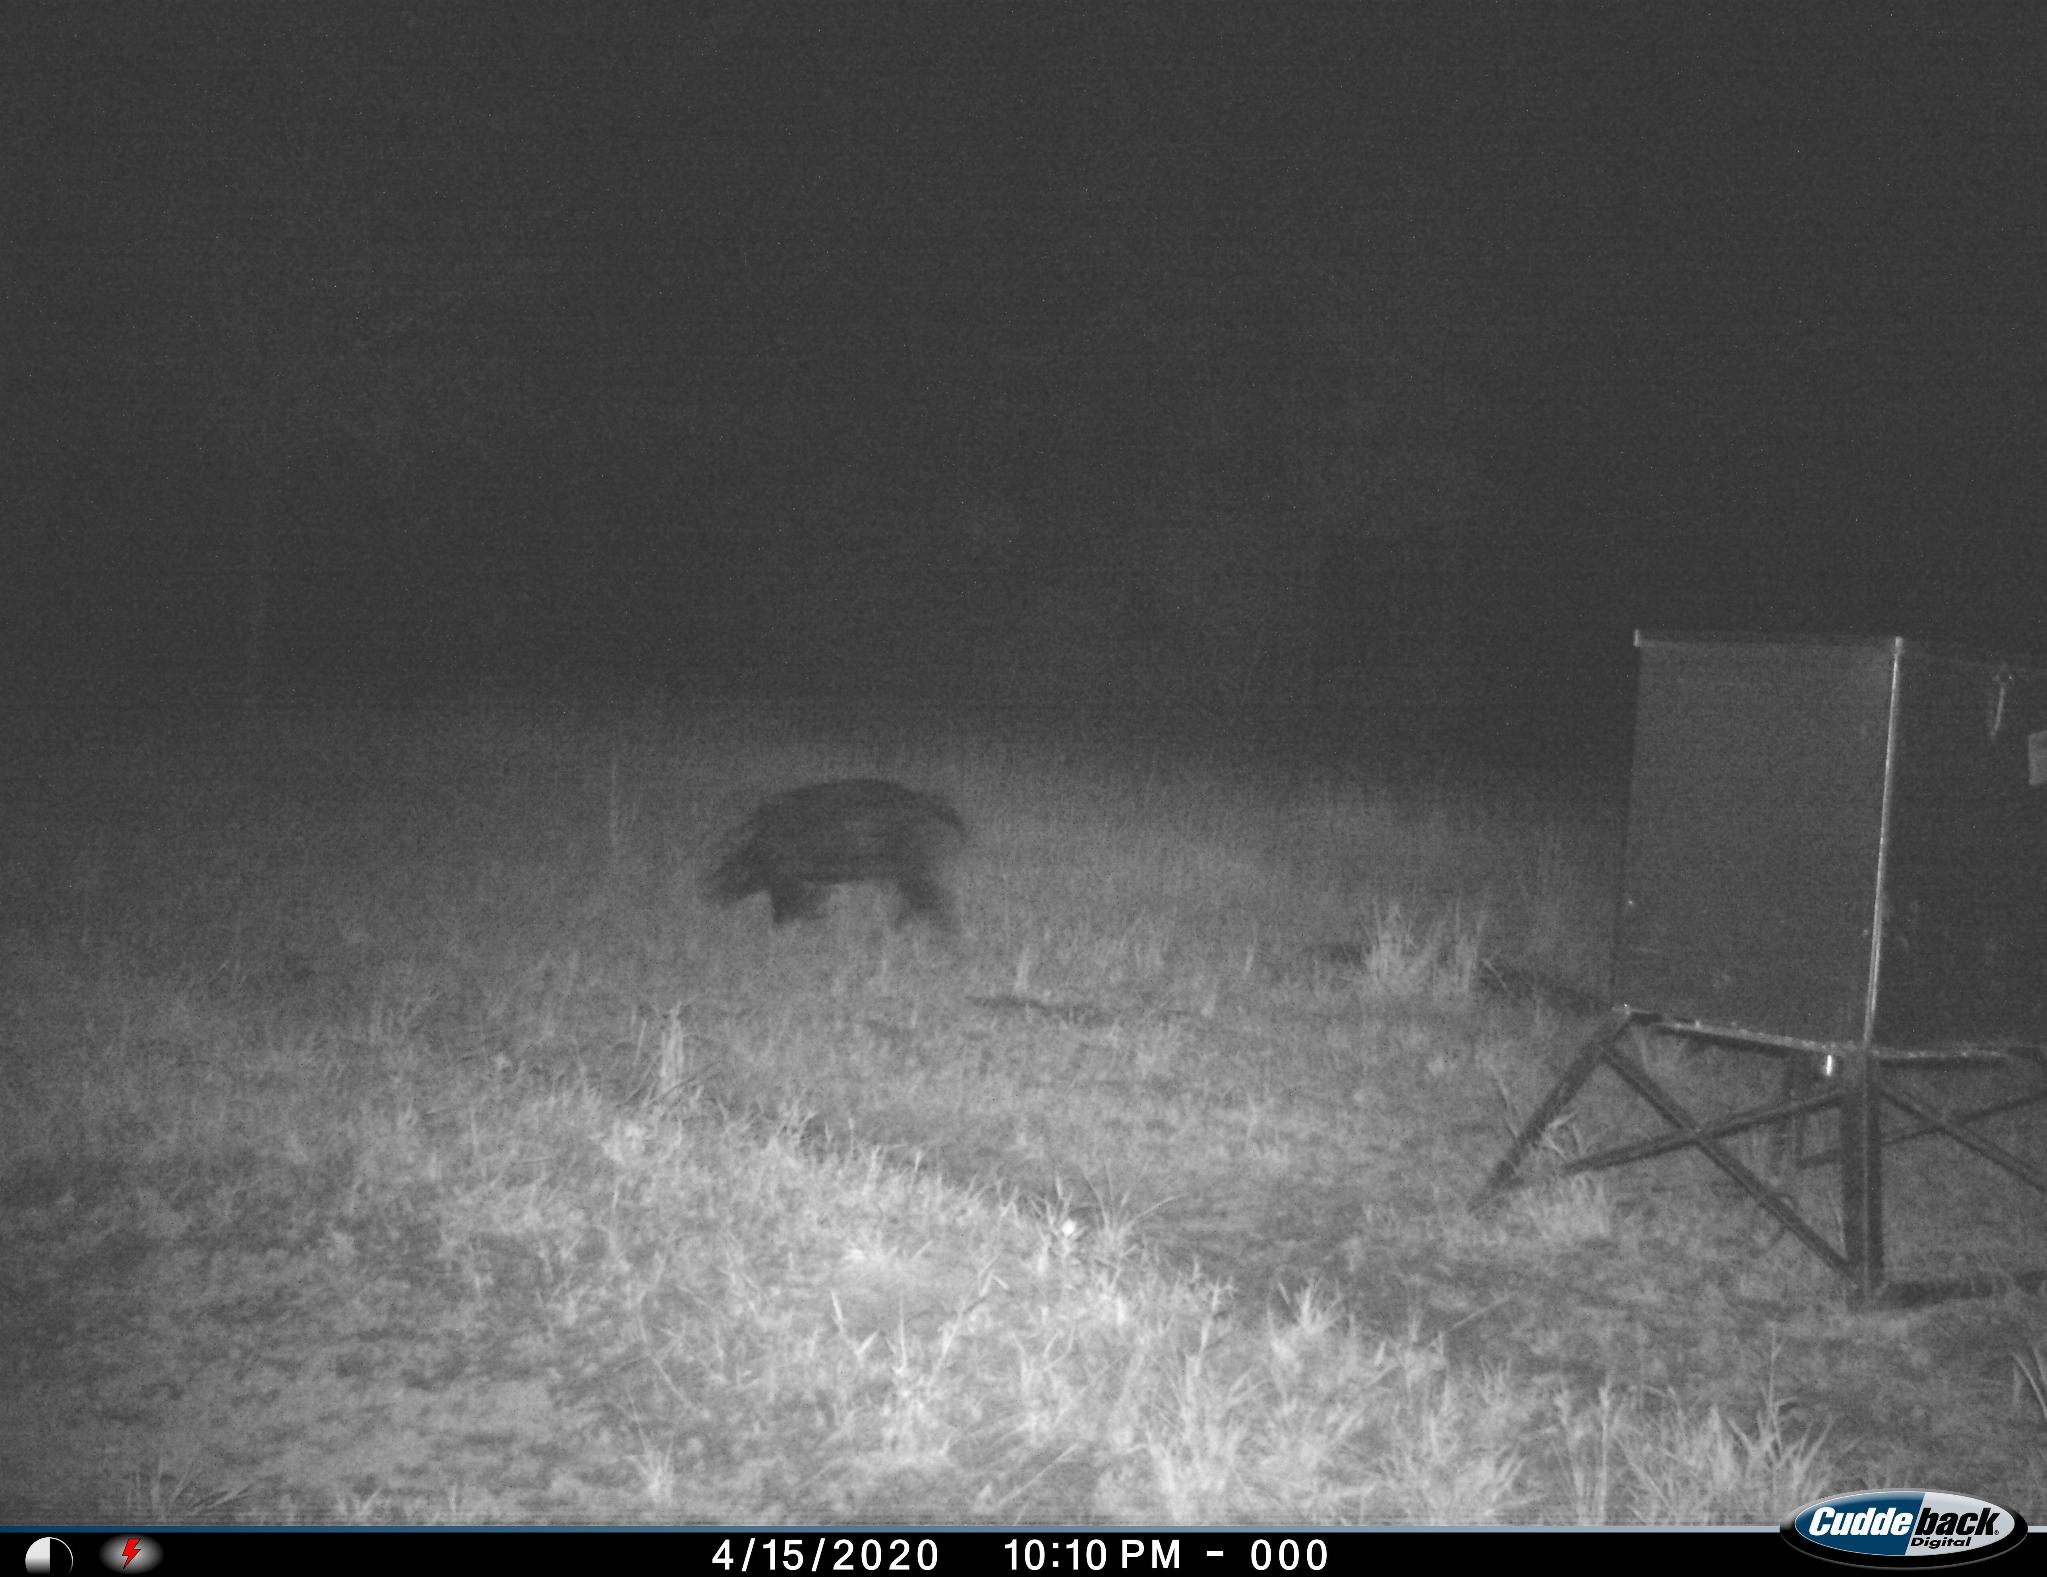Hog: (701, 769, 1004, 969)
